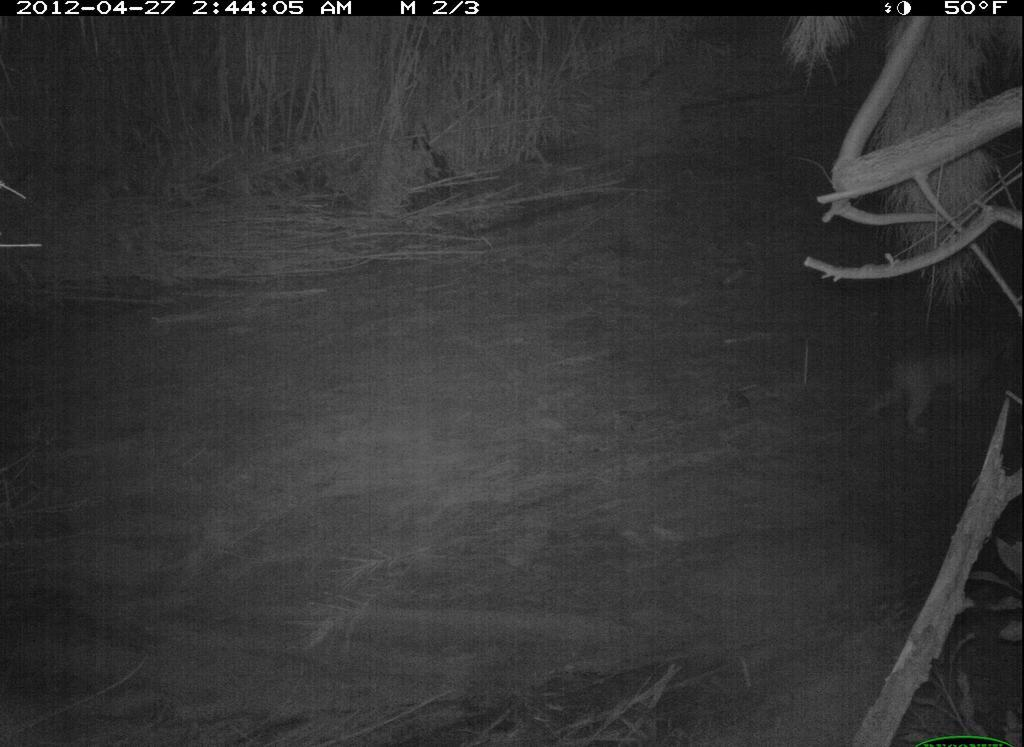bobcat: (858, 342, 1017, 440)
